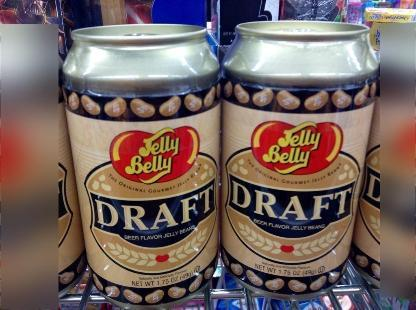Can: (61, 22, 222, 310), (219, 19, 379, 300)
